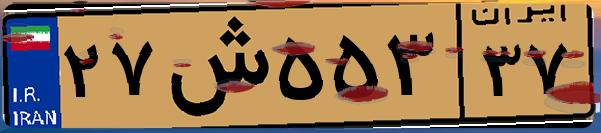2: (57, 26, 110, 100)
3: (385, 28, 445, 110), (475, 38, 525, 113)
5: (270, 28, 330, 110), (330, 28, 385, 110)
7: (525, 38, 570, 115), (110, 28, 158, 98)
ش: (158, 12, 270, 120)
